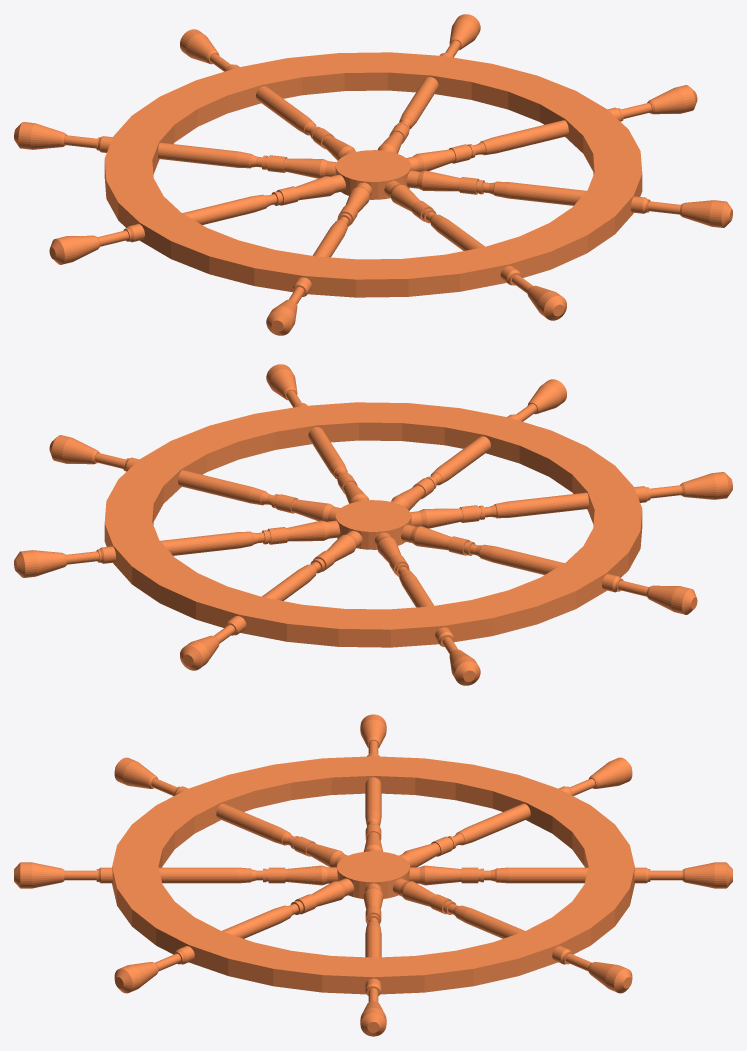
Rendered from Timone.fbx.
The picture shows the model from 3 angles, top to bottom: view 1: azimuth 30°, elevation 25°; view 2: azimuth 150°, elevation 25°; view 3: azimuth 270°, elevation 25°; orthographic projection. The views are drawn at different scales.
Parts seen in each view (by area): view 1: Cylinder.003; view 2: Cylinder.003; view 3: Cylinder.003.
Part boxes in pixels (x1,y1,x2,y2): Cylinder.003: (14,14,732,335); Cylinder.003: (14,364,732,685); Cylinder.003: (14,714,732,1036).
Bounding box in the file's own units: 597 × 21.64 × 597.
